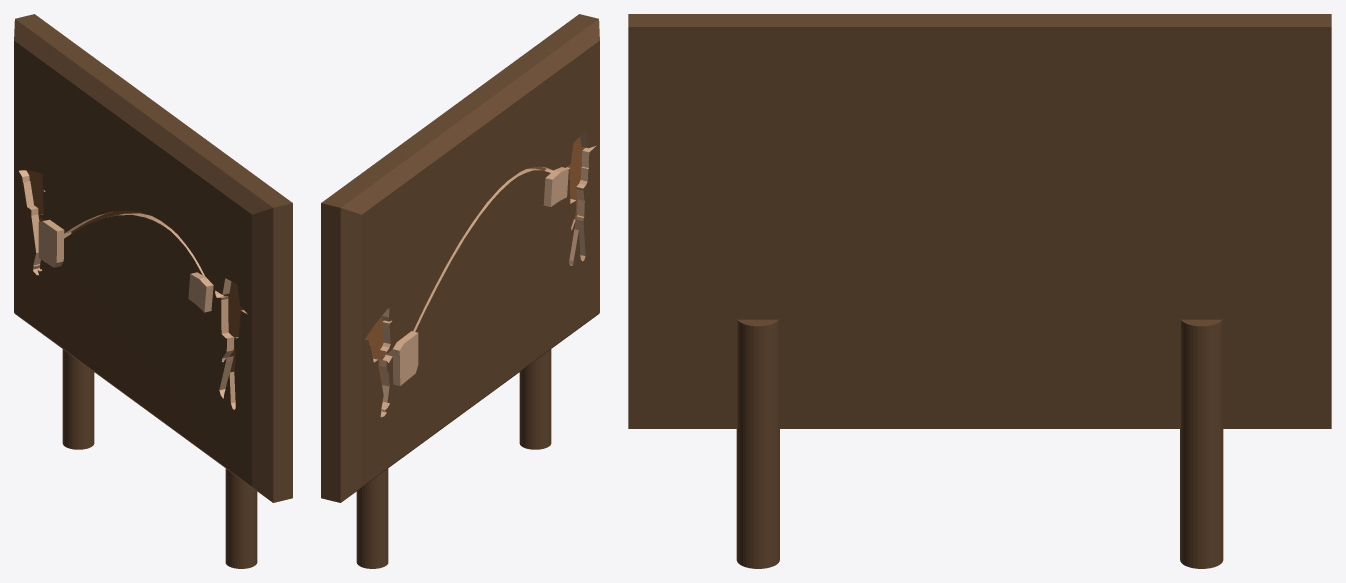
File: EnemyThrowsign.fbx
The picture shows the model from 3 angles, left to right: view 1: azimuth 30°, elevation 25°; view 2: azimuth 150°, elevation 25°; view 3: azimuth 270°, elevation 25°; orthographic projection. The views are drawn at different scales.
Parts seen in each view (by area): view 1: Cube.006, Cylinder, Cylinder.001; view 2: Cube.006, Cylinder.001, Cylinder; view 3: Cube.006, Cylinder, Cylinder.001.
Boxes of the visible parts, x1,y1,x2,y2 form: Cube.006: (14, 14, 292, 502); Cylinder: (62, 349, 94, 449); Cylinder.001: (225, 468, 257, 568); Cube.006: (321, 14, 599, 502); Cylinder.001: (519, 349, 551, 449); Cylinder: (356, 468, 388, 568); Cube.006: (628, 14, 1331, 428); Cylinder: (1180, 319, 1223, 568); Cylinder.001: (736, 319, 779, 568).
Size of the model in its own units: 34.08 by 266 by 317.
